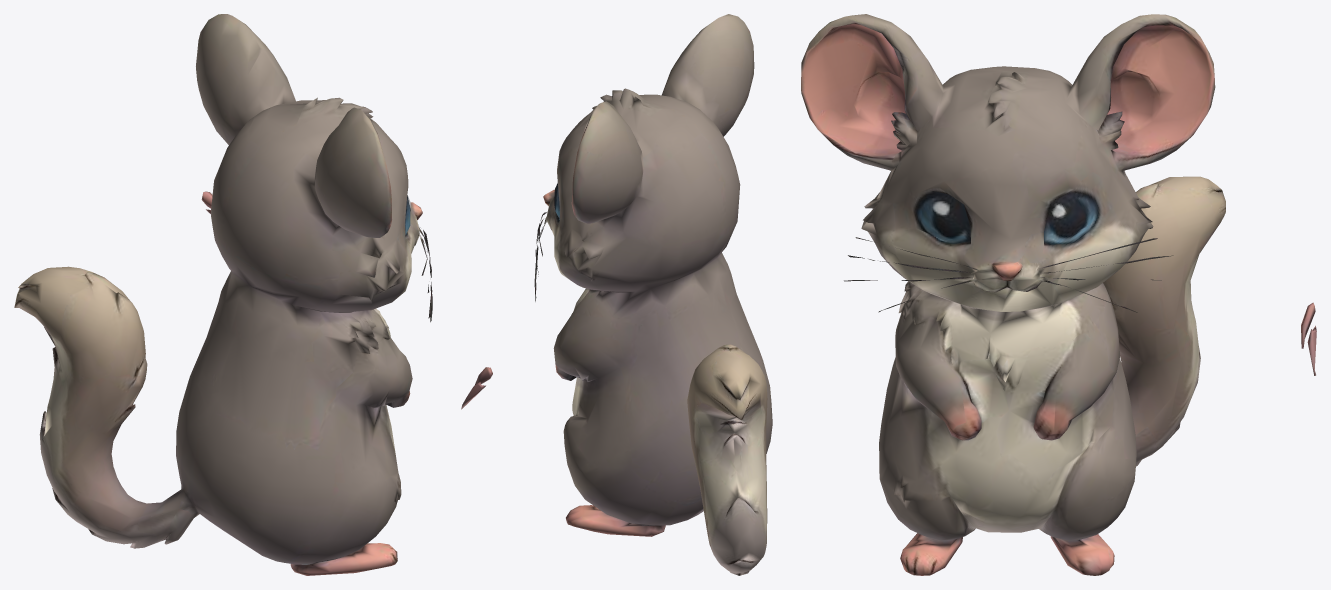
File: common_dormouse.lite.glb
The picture shows the model from 3 angles, left to right: view 1: azimuth 30°, elevation 25°; view 2: azimuth 150°, elevation 25°; view 3: azimuth 270°, elevation 25°; orthographic projection. The views are drawn at different scales.
Parts seen in each view (by area): view 1: tripo_node_8761f8dc-4fb6-4ebc-8754-589a25f6879c; view 2: tripo_node_8761f8dc-4fb6-4ebc-8754-589a25f6879c; view 3: tripo_node_8761f8dc-4fb6-4ebc-8754-589a25f6879c.
Part boxes in pixels (box(x1,y1,x2,y2)): tripo_node_8761f8dc-4fb6-4ebc-8754-589a25f6879c: box(14, 14, 432, 575); tripo_node_8761f8dc-4fb6-4ebc-8754-589a25f6879c: box(461, 14, 772, 575); tripo_node_8761f8dc-4fb6-4ebc-8754-589a25f6879c: box(801, 14, 1316, 575).
Size of the model in its own units: 0.6743 by 0.9984 by 0.8747.
1 material, 1 textured.
